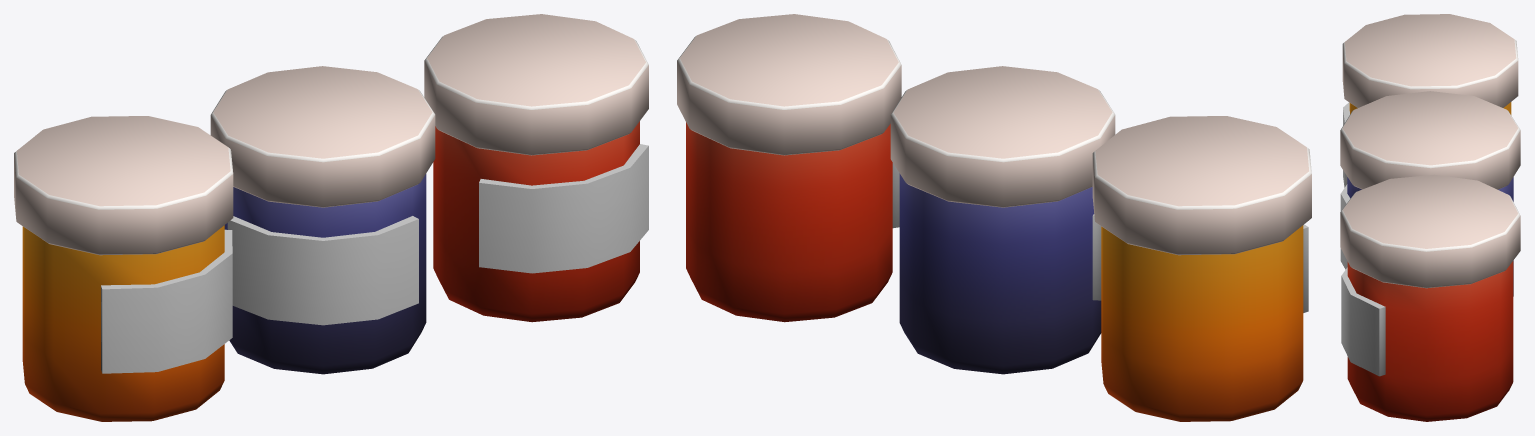
The model's file is Marmeladengläser.fbx.
The picture shows the model from 3 angles, left to right: view 1: azimuth 30°, elevation 25°; view 2: azimuth 150°, elevation 25°; view 3: azimuth 270°, elevation 25°; orthographic projection. The views are drawn at different scales.
Visible parts, largest first — view 1: Cylinder.016, Cylinder.015, Cylinder.014; view 2: Cylinder.016, Cylinder.015, Cylinder.014; view 3: Cylinder.016, Cylinder.014, Cylinder.015.
Part boxes in pixels (<box>): Cylinder.016: <box>424,14,648,322</box>; Cylinder.015: <box>14,116,233,421</box>; Cylinder.014: <box>210,66,435,374</box>; Cylinder.016: <box>677,14,901,322</box>; Cylinder.015: <box>1092,116,1311,421</box>; Cylinder.014: <box>890,66,1115,374</box>; Cylinder.016: <box>1340,174,1520,421</box>; Cylinder.014: <box>1340,91,1520,296</box>; Cylinder.015: <box>1342,14,1518,187</box>.
Size of the model in its own units: 28.75 by 10.2 by 9.25.
